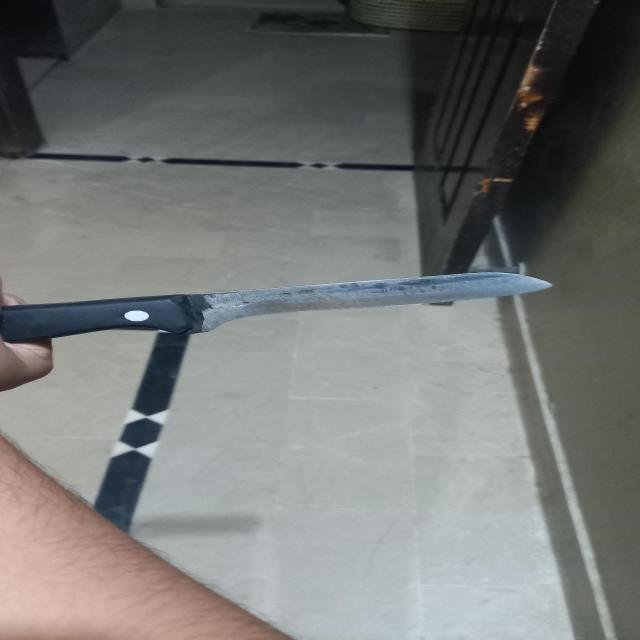Knife: (0, 272, 561, 345)
Person: (0, 290, 294, 640)
